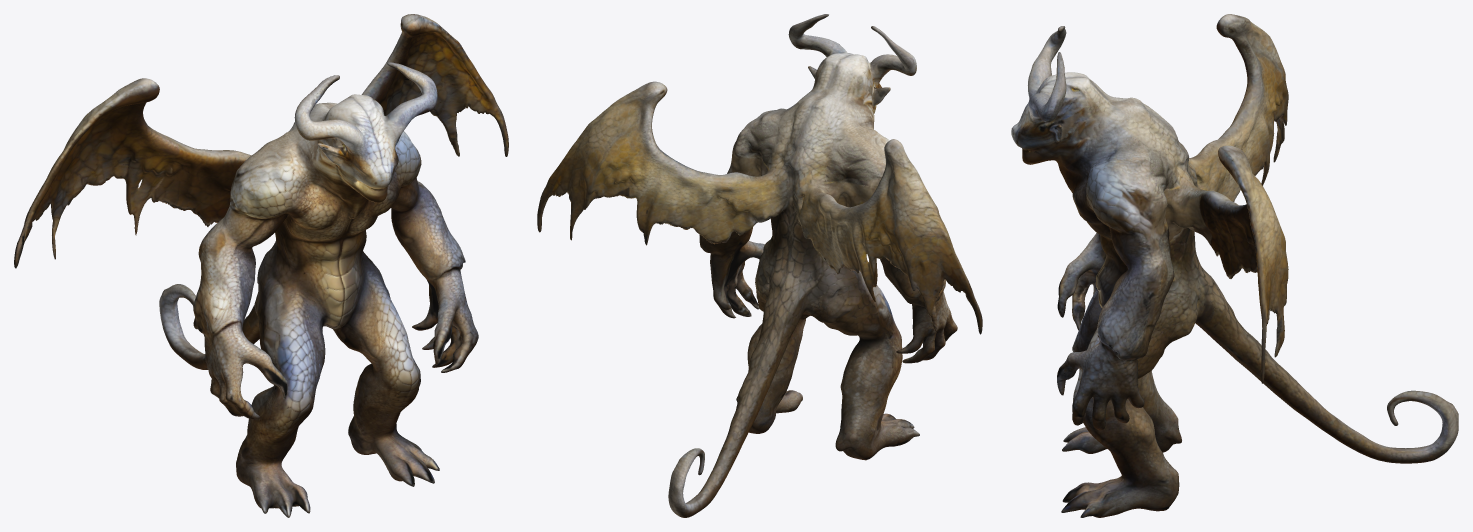
The model's file is Design_a_hyper_realis_0207142555_texture.fbx.
3 renders of one model, left to right at view 1: azimuth 30°, elevation 25°; view 2: azimuth 150°, elevation 25°; view 3: azimuth 270°, elevation 25°, orthographic. The views are drawn at different scales.
Parts seen in each view (by area): view 1: Mesh1_Mesh1.009; view 2: Mesh1_Mesh1.009; view 3: Mesh1_Mesh1.009.
Part boxes in pixels (bbox=[...]): Mesh1_Mesh1.009: bbox=[14, 14, 508, 517]; Mesh1_Mesh1.009: bbox=[537, 14, 982, 517]; Mesh1_Mesh1.009: bbox=[1011, 14, 1458, 517].
Size of the model in its own units: 237 by 200 by 185.
Materials: 1 (1 with a texture image).
